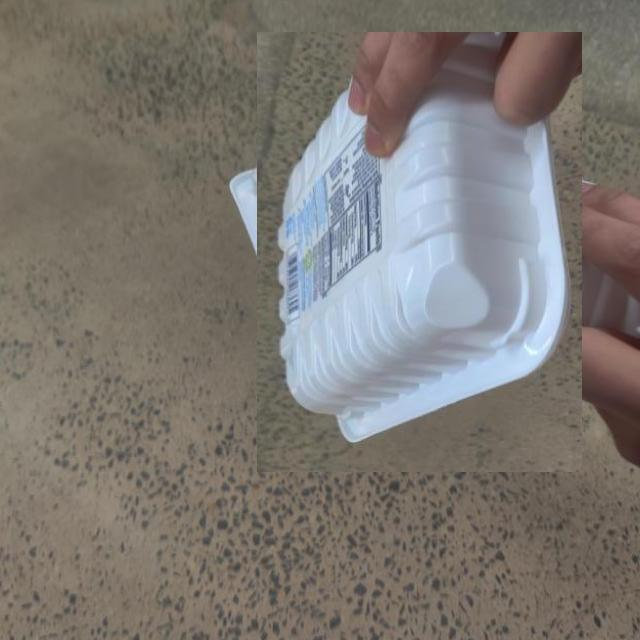Tofu: (257, 31, 582, 472)
